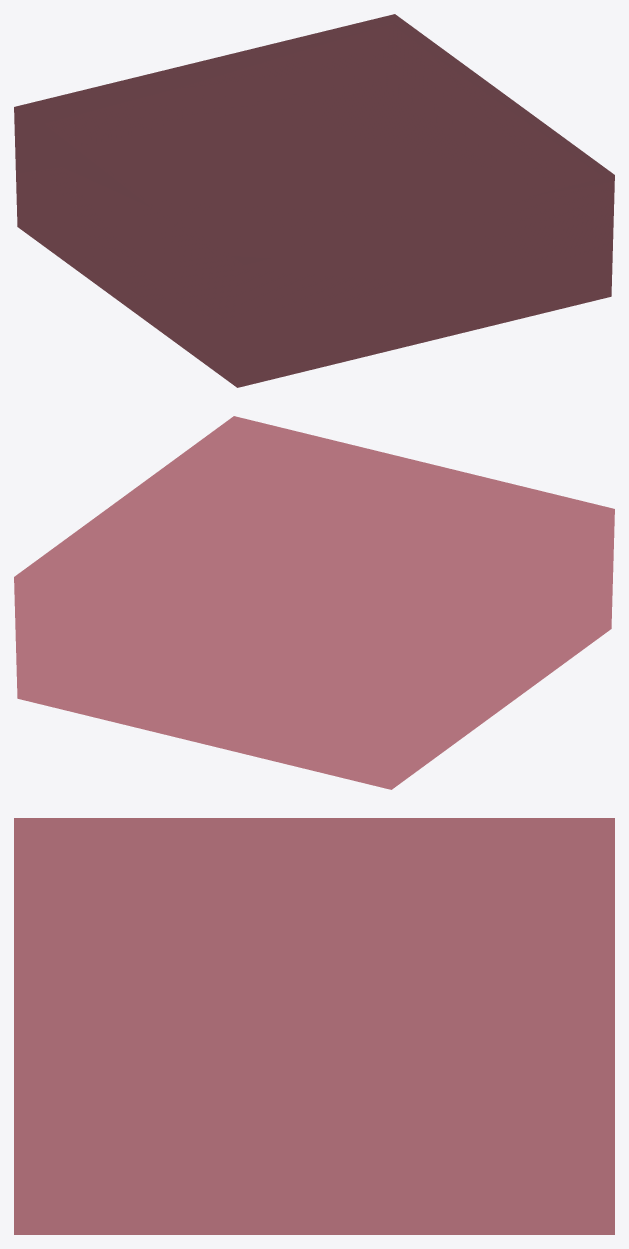
3 renders of one model, top to bottom at view 1: azimuth 30°, elevation 25°; view 2: azimuth 150°, elevation 25°; view 3: azimuth 270°, elevation 25°, orthographic. The views are drawn at different scales.
Parts seen in each view (by area): view 1: Cube.3; view 2: Cube.3; view 3: Cube.3.
Part boxes in pixels (x1,y1,x2,y2): Cube.3: [14, 14, 614, 387]; Cube.3: [14, 416, 614, 789]; Cube.3: [14, 818, 614, 1234].
Size of the model in its own units: 211 by 63.83 by 211.
